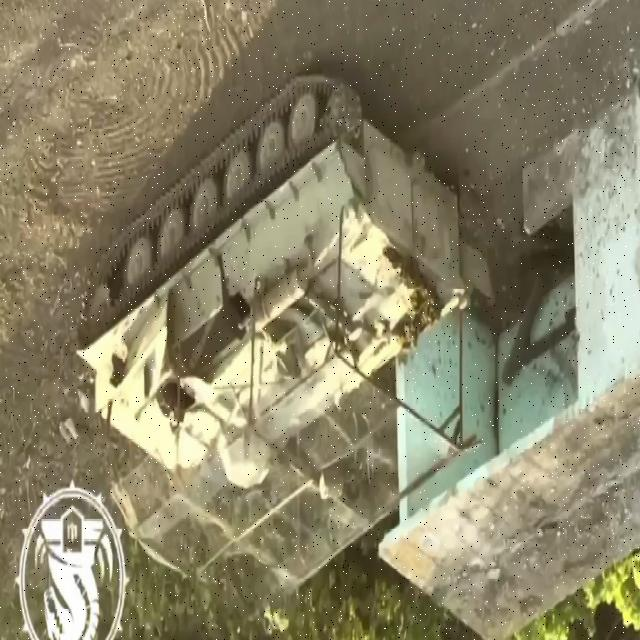APC-IFV: (74, 77, 462, 593)
